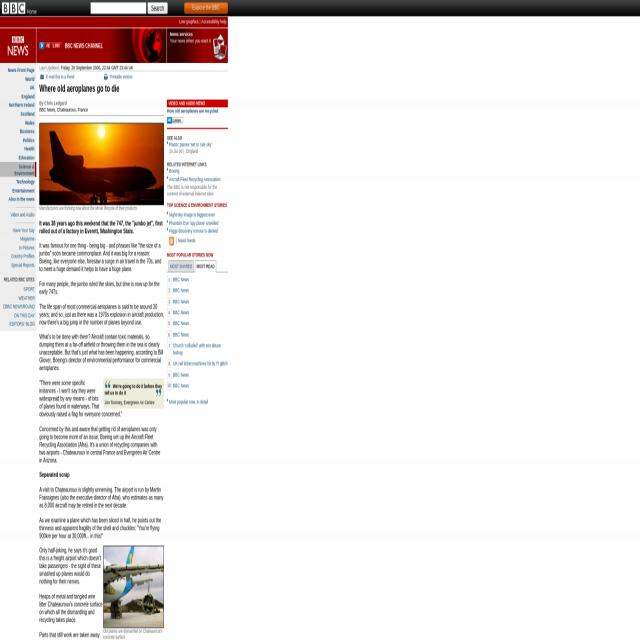button: (40, 122, 164, 205), (103, 547, 164, 628), (104, 378, 164, 409), (0, 27, 36, 62), (1, 1, 39, 17), (184, 2, 228, 14), (213, 31, 228, 61), (168, 261, 194, 272), (196, 261, 216, 274), (148, 3, 168, 14), (40, 42, 62, 50), (167, 117, 184, 123), (169, 237, 174, 245)
field: (91, 2, 146, 14)
